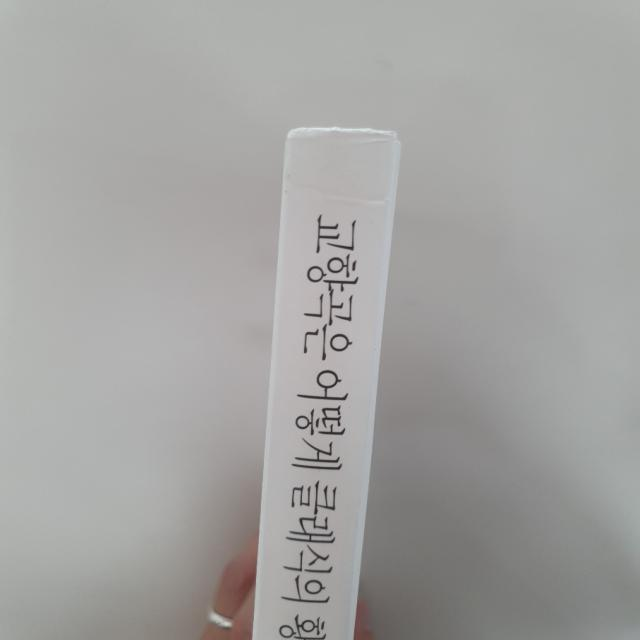Wornout: (280, 122, 410, 148)
